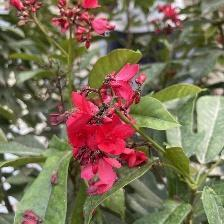jatropha: (96, 114, 139, 157)
